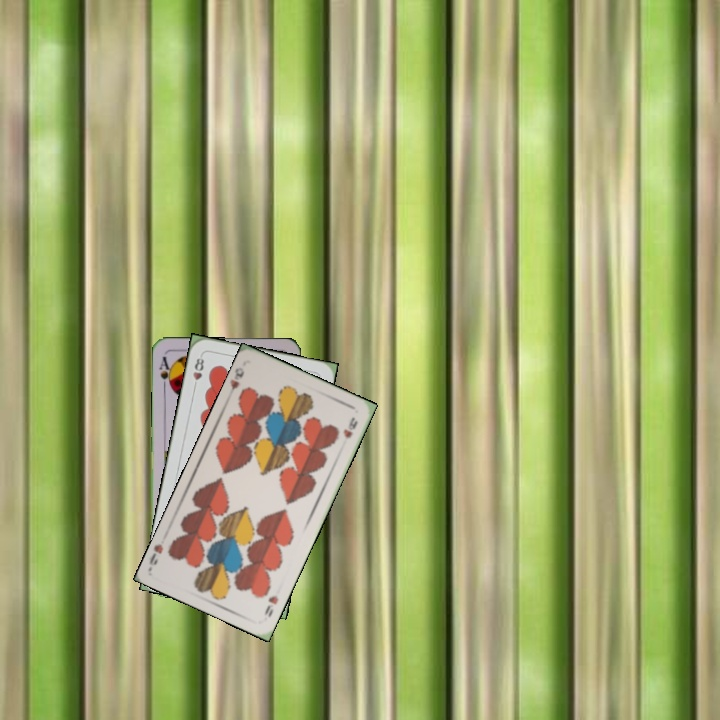H8: (189, 351, 207, 391)
H9: (226, 365, 247, 399), (260, 591, 281, 620)
SA: (155, 352, 175, 392)
